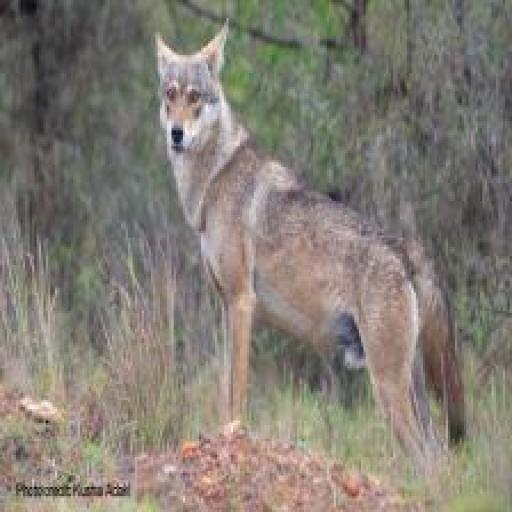wolf: (153, 16, 471, 502)
